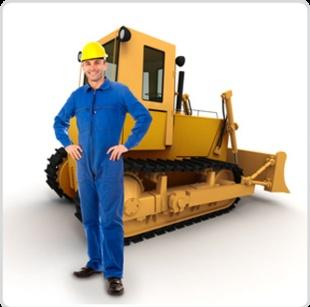helmet: (80, 42, 109, 65)
